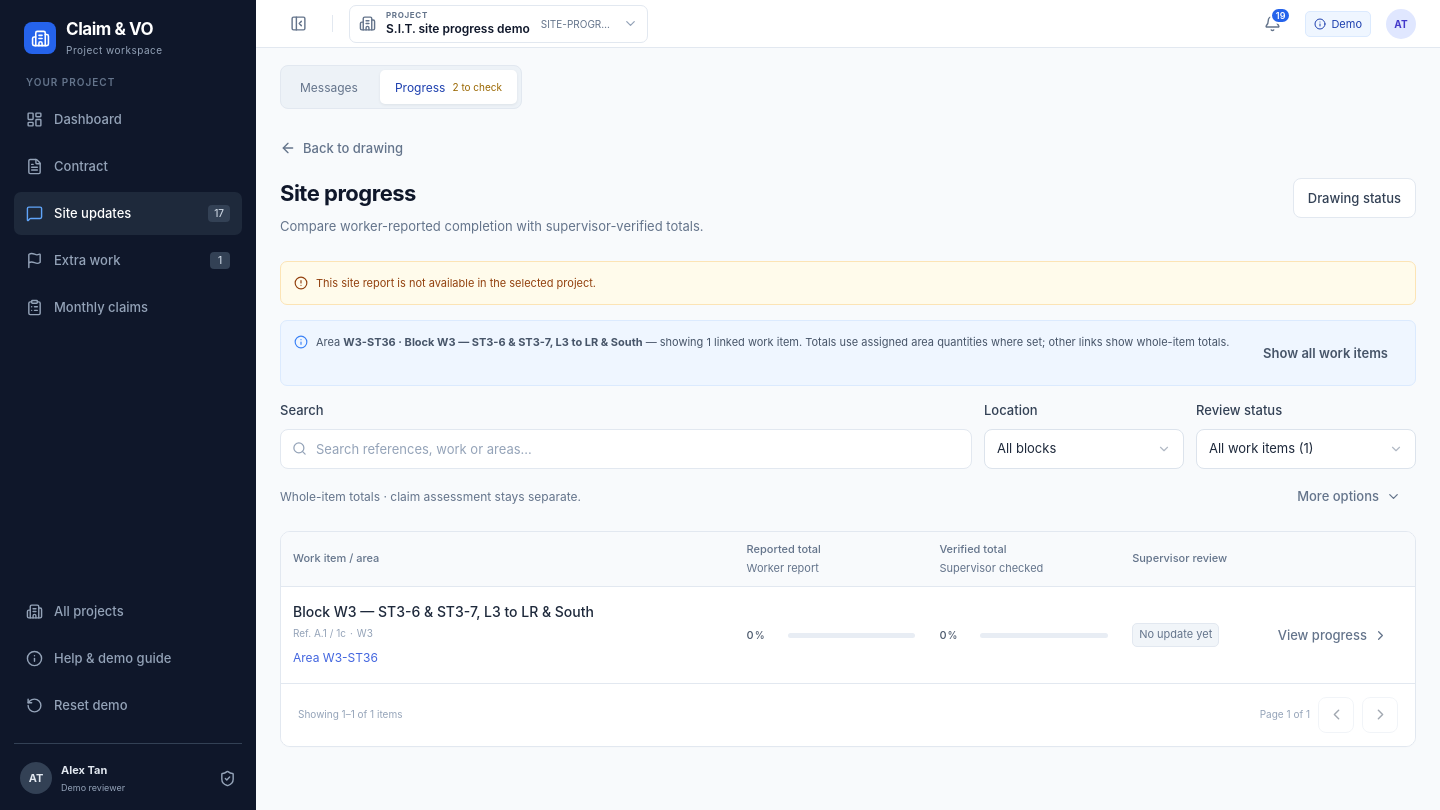
Test: site progress separates worker reports from supervisor verification › clears an unavailable report when opening an item without a saved report, preserving its area and records
Check: the text "This site report is not available in the selected project." is shown, box [316,274,596,292]
Click the button "View progress": (1333, 635) [1263,615,1403,655]
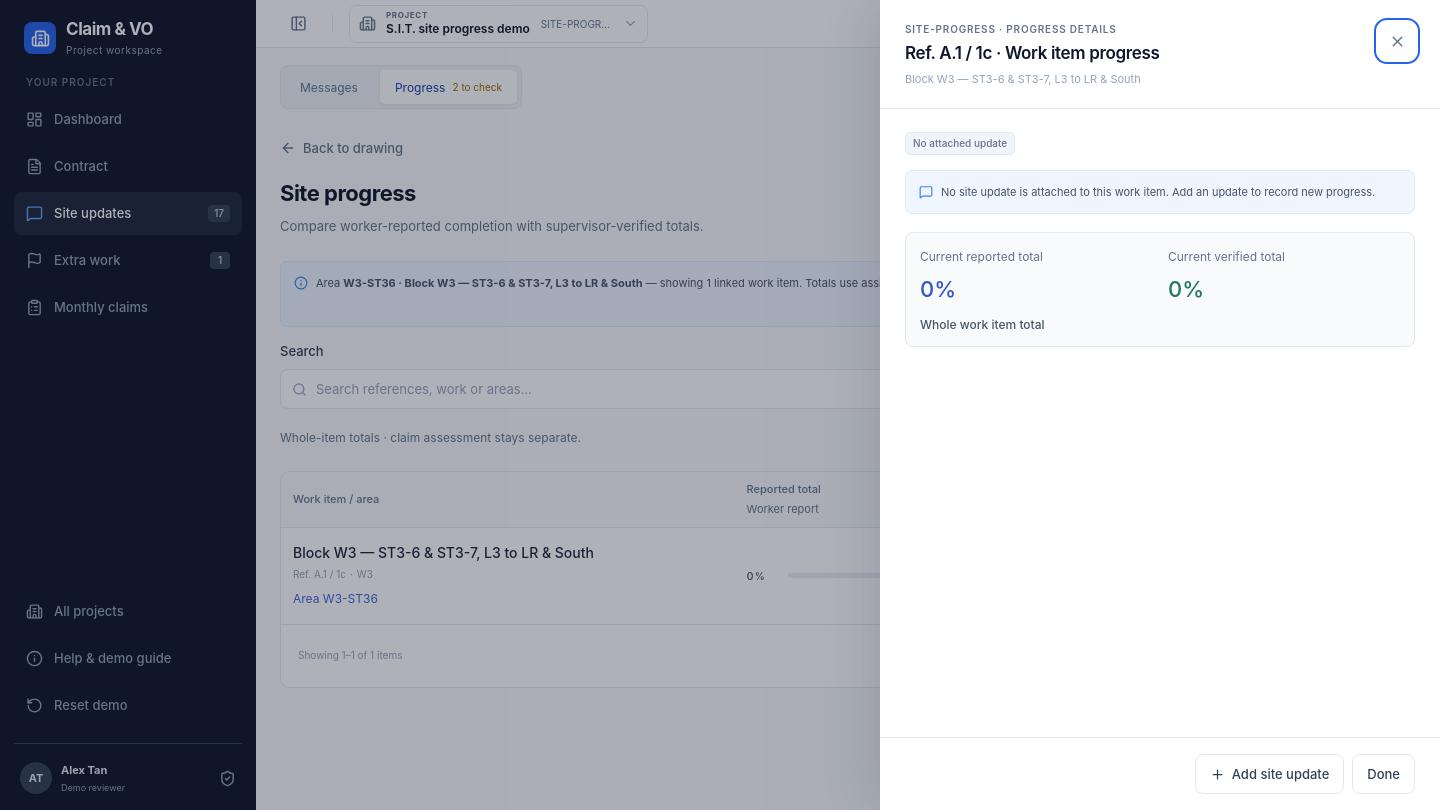
Check: the dialog shows "Block W3 — ST3-6 & ST3-7, L3 to LR & South", box [905,72,1141,86]
Check: the text "No attached update" is shown, box [905,132,1015,155]
Check: the text "This site report is not available in the selected project." is gone
Click the button named "Close site report": (1397, 41) [1379,23,1415,59]
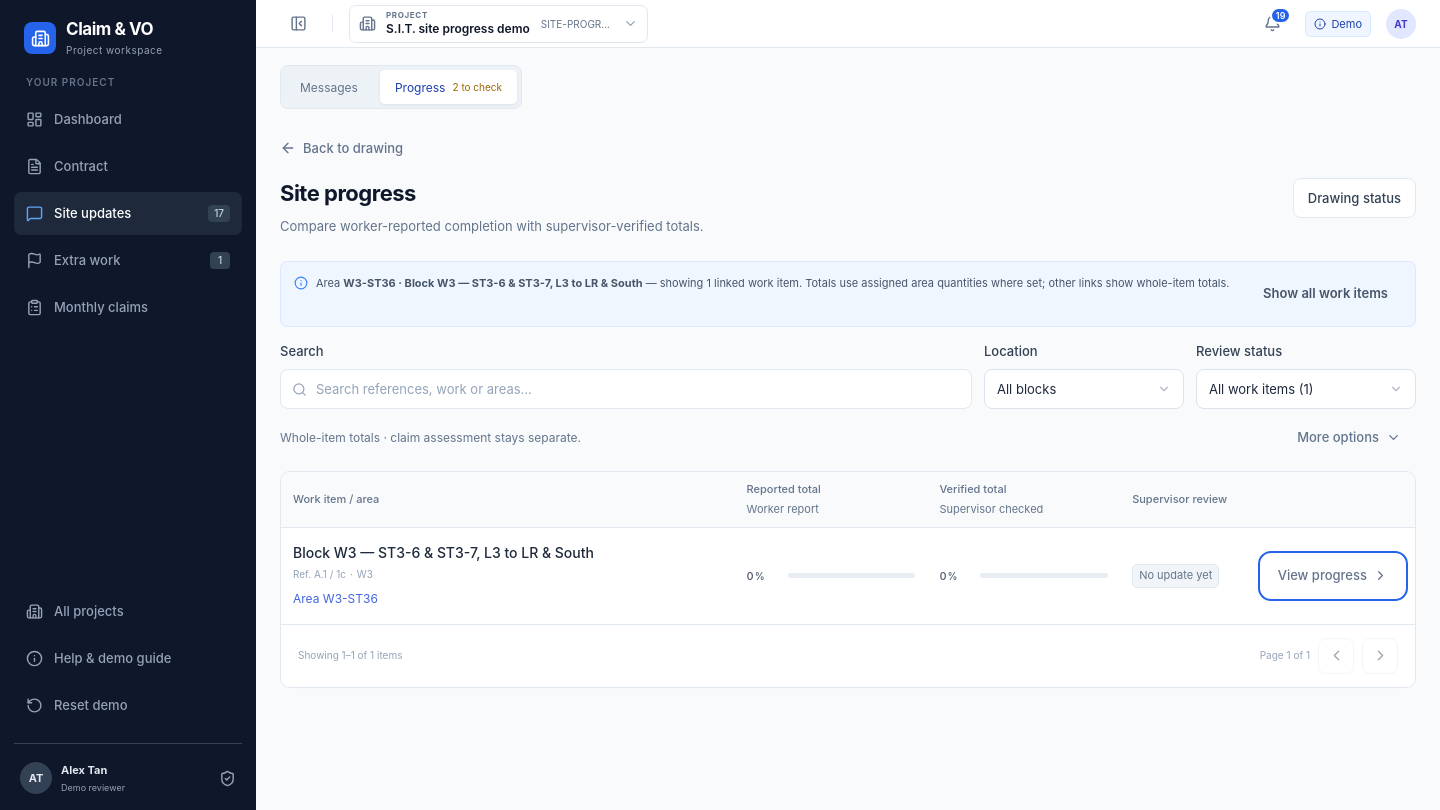
Check: the dialog is gone
